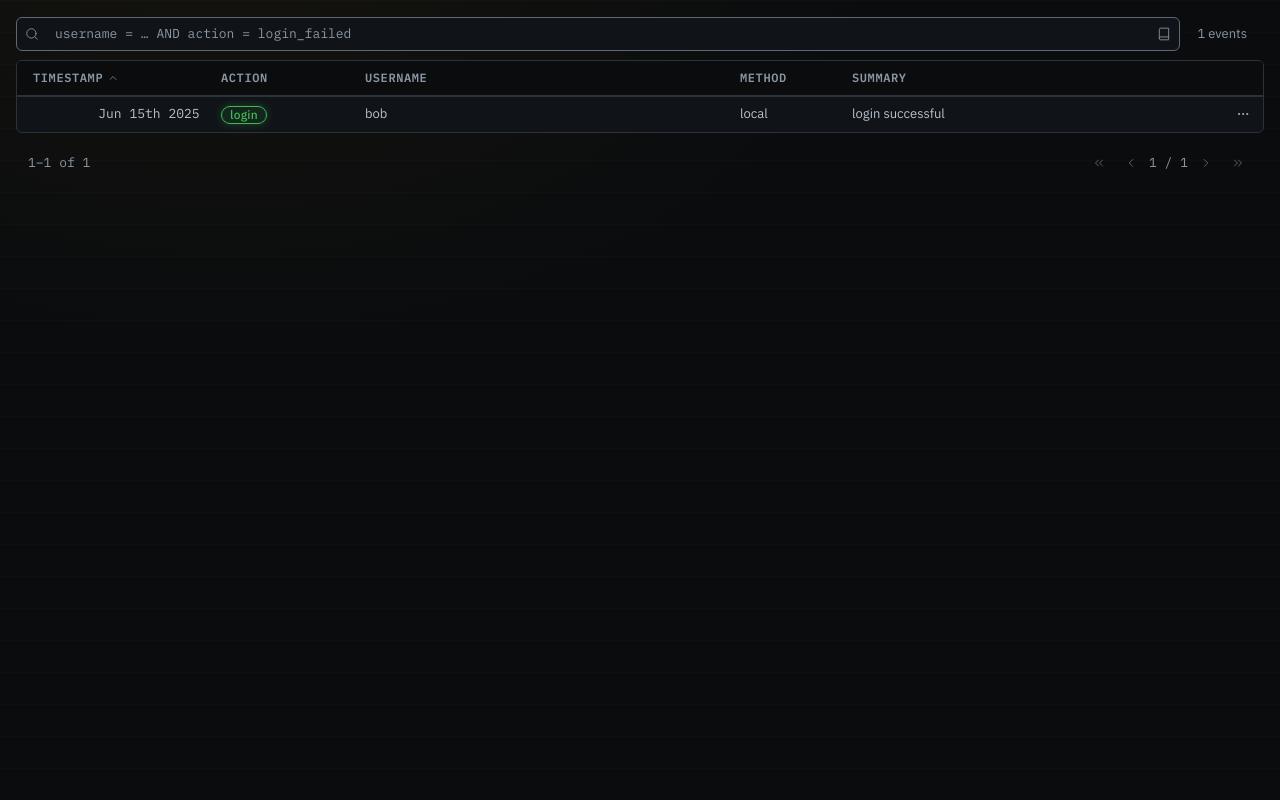
Test: AuthAuditPage › opens a 'View details' drawer with the raw entry JSON from the row kebab
Check: the text "bob" is shown, box left=365, top=105, right=387, bottom=122
Click the button named "row actions" at [1243, 114], box left=1229, top=100, right=1257, bottom=128
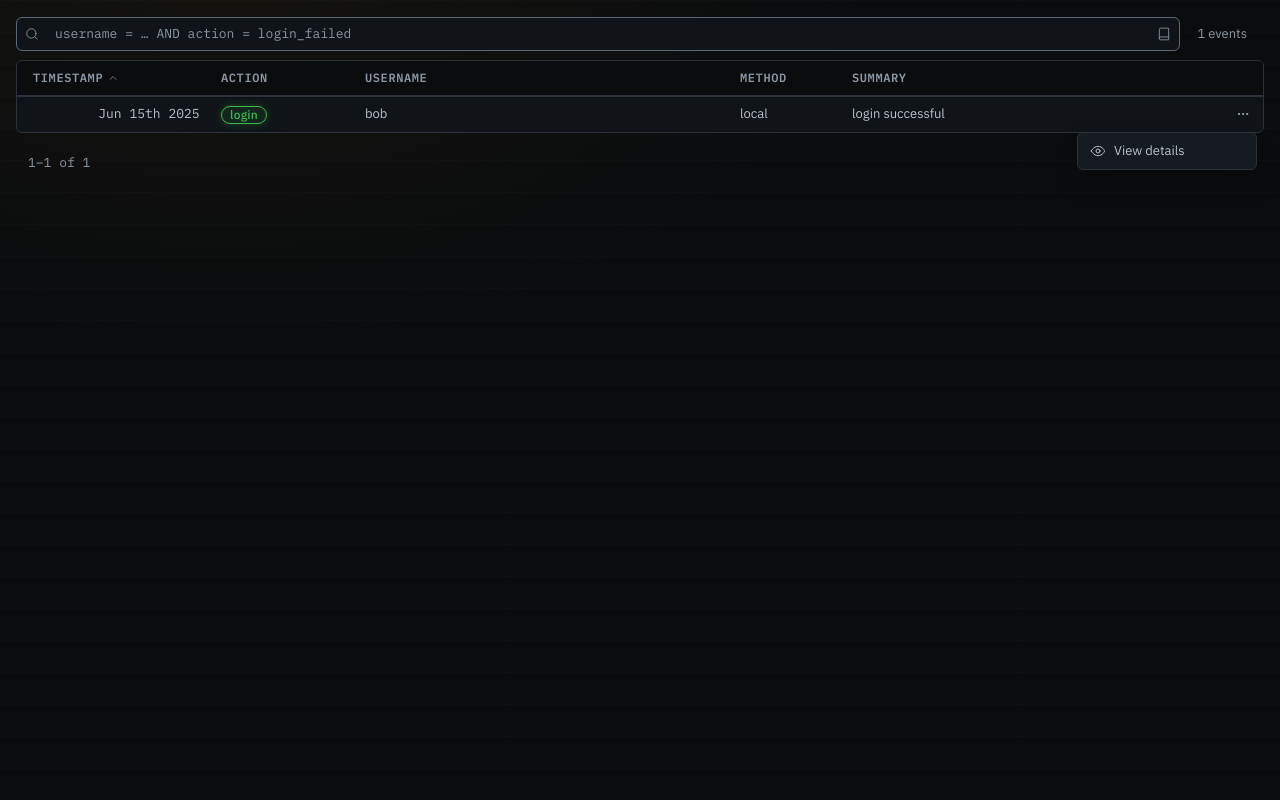
Check: the menu item "View details" is shown
Click the menu item "View details" at [1137, 150], box left=1090, top=142, right=1185, bottom=159
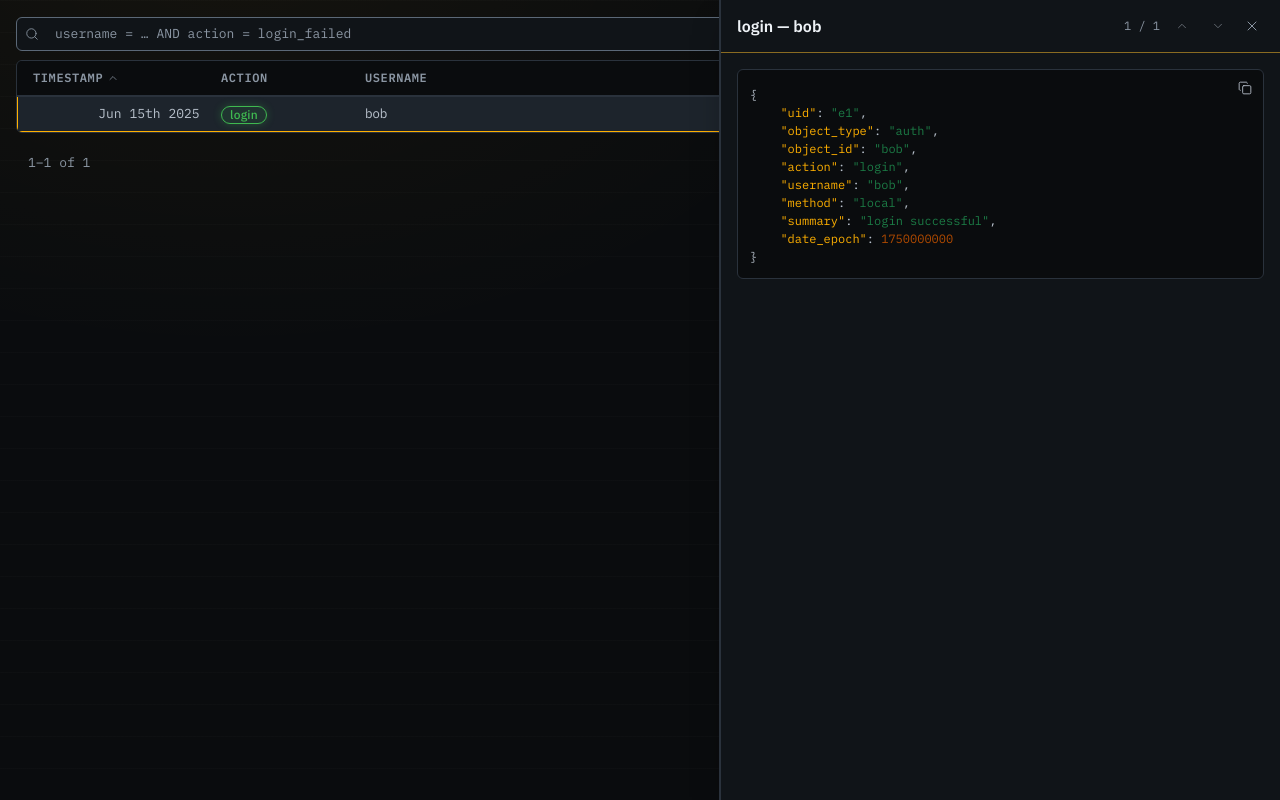
Check: the text "\"login successful\"" is shown, box left=860, top=213, right=989, bottom=228
